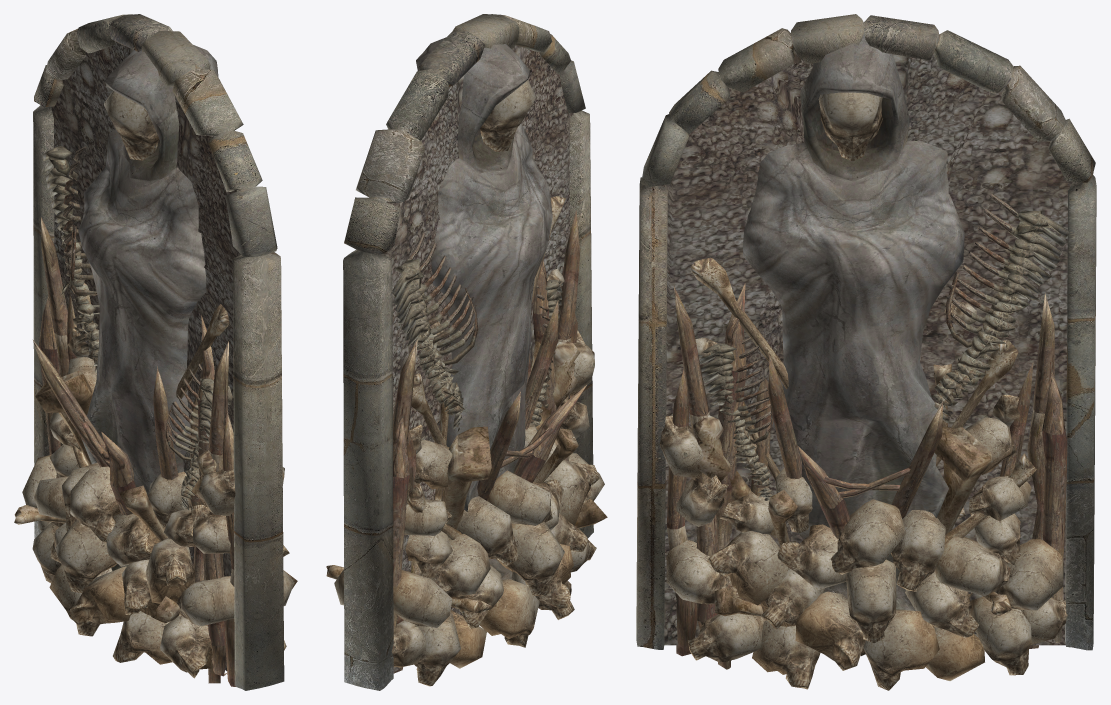
Rendered from Wall.fbx.
The picture shows the model from 3 angles, left to right: view 1: azimuth 30°, elevation 25°; view 2: azimuth 150°, elevation 25°; view 3: azimuth 270°, elevation 25°; orthographic projection. The views are drawn at different scales.
Visible parts, largest first — view 1: M4_Nigraturis_Door03_SM_SCY; view 2: M4_Nigraturis_Door03_SM_SCY; view 3: M4_Nigraturis_Door03_SM_SCY.
Part boxes in pixels (x1,y1,x2,y2): M4_Nigraturis_Door03_SM_SCY: (14,14,297,690); M4_Nigraturis_Door03_SM_SCY: (326,14,607,690); M4_Nigraturis_Door03_SM_SCY: (636,14,1096,690).
Size of the model in its own units: 0.4418 by 1.33 by 0.856.
Materials: 3 (3 with a texture image).
